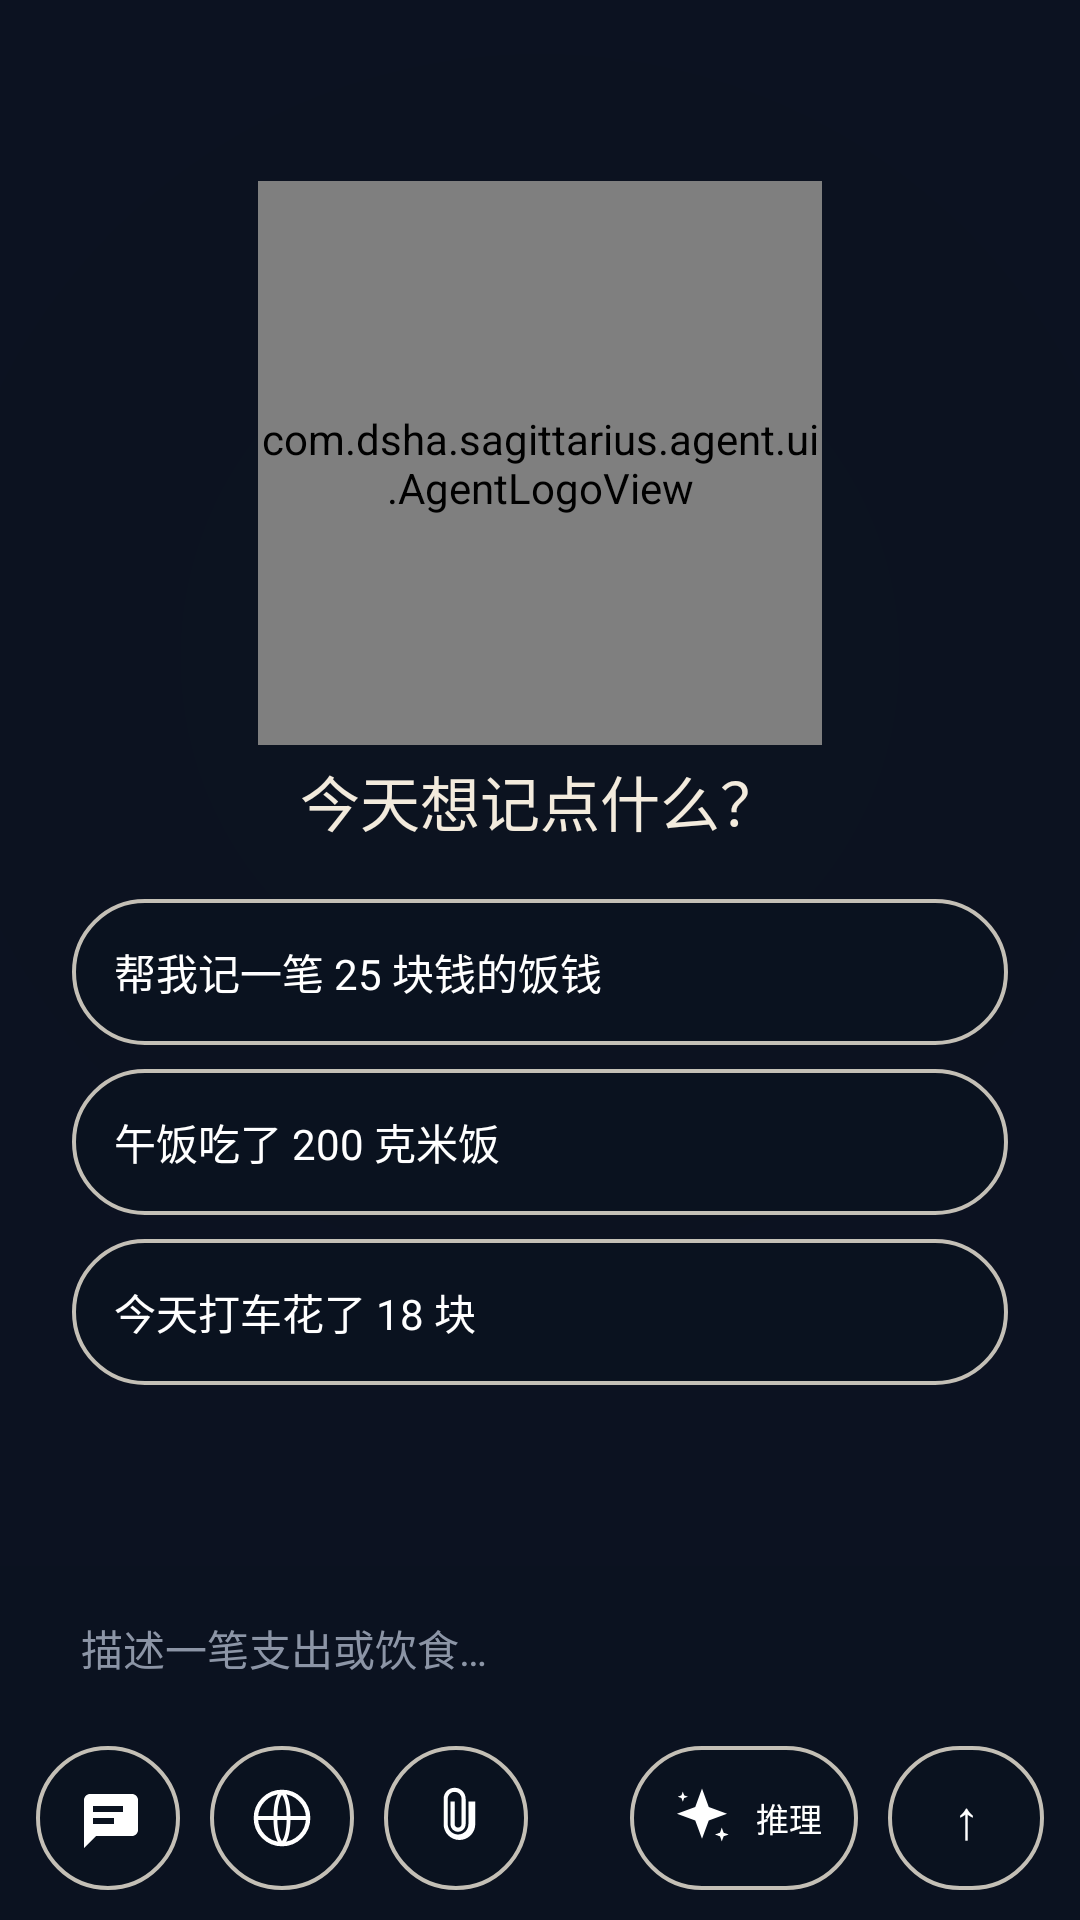

Where to tap for icons on this 1080 × 1920 app screen, as [x,y]:
上传附件: [456,1818]
切换会话: [108,1818]
联网搜索: [282,1818]
